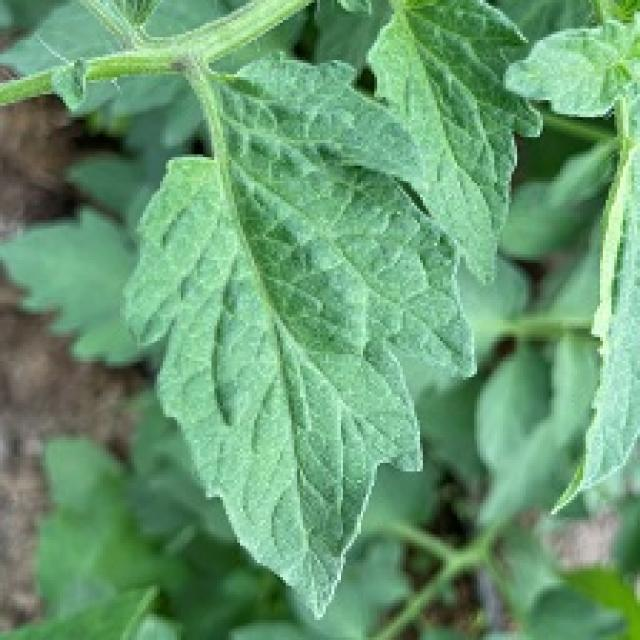Healthy: (52, 10, 566, 635), (361, 0, 565, 291)
